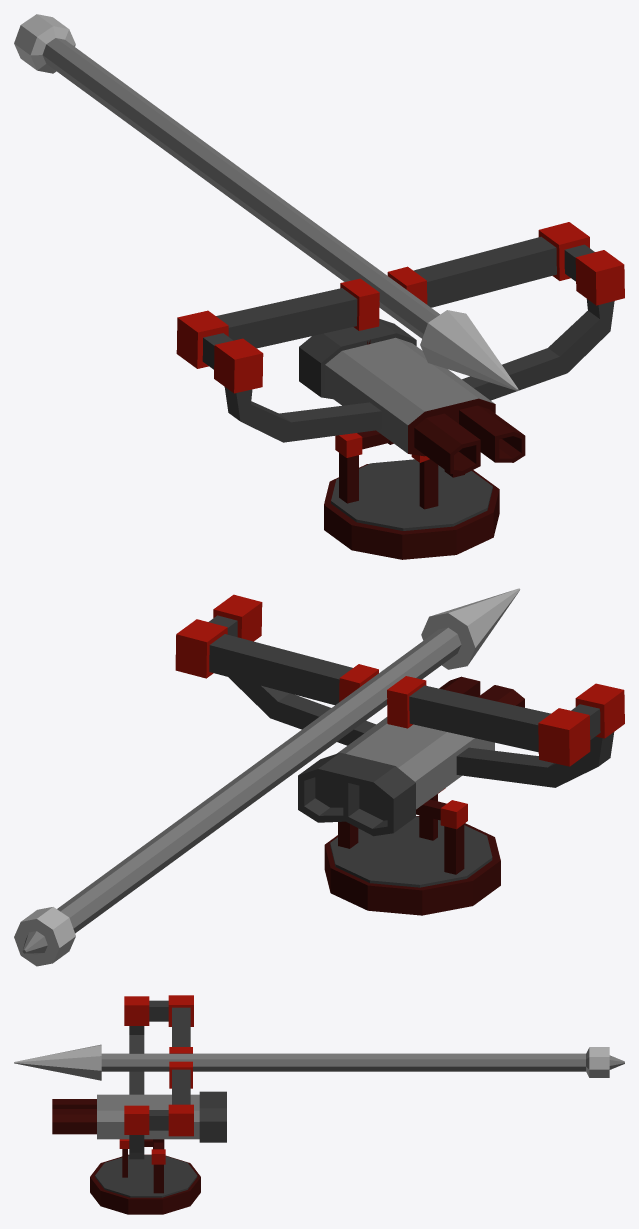
The model's file is NahSFertig.fbx.
3 renders of one model, top to bottom at view 1: azimuth 30°, elevation 25°; view 2: azimuth 150°, elevation 25°; view 3: azimuth 270°, elevation 25°, orthographic. The views are drawn at different scales.
Parts seen in each view (by area): view 1: Cube.001, Cylinder, Cylinder.002; view 2: Cube.001, Cylinder, Cylinder.002; view 3: Cube.001, Cylinder, Cylinder.002.
Part boxes in pixels (<box>): Cube.001: <box>176,222,624,530</box>; Cylinder: <box>14,14,518,390</box>; Cylinder.002: <box>324,464,499,559</box>; Cube.001: <box>175,594,624,887</box>; Cylinder: <box>14,588,520,966</box>; Cylinder.002: <box>324,816,500,915</box>; Cube.001: <box>52,995,226,1197</box>; Cylinder: <box>14,1044,624,1080</box>; Cylinder.002: <box>90,1154,200,1214</box>.
Bounding box in the file's own units: 1297 × 751 × 2821.
